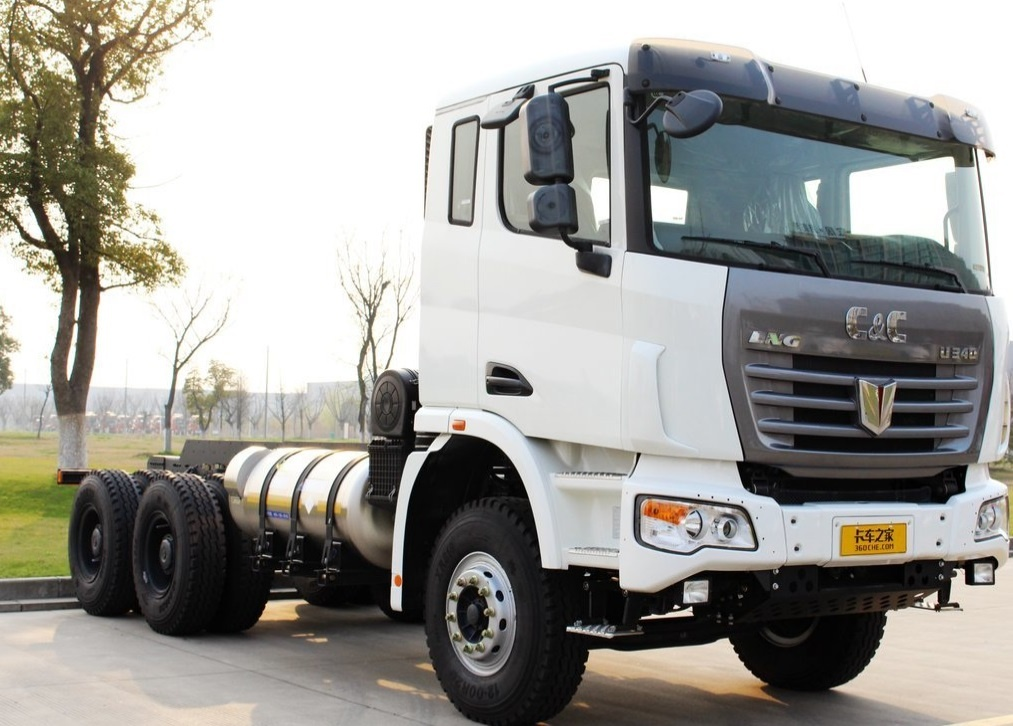heavy truck: (76, 56, 1002, 720)
